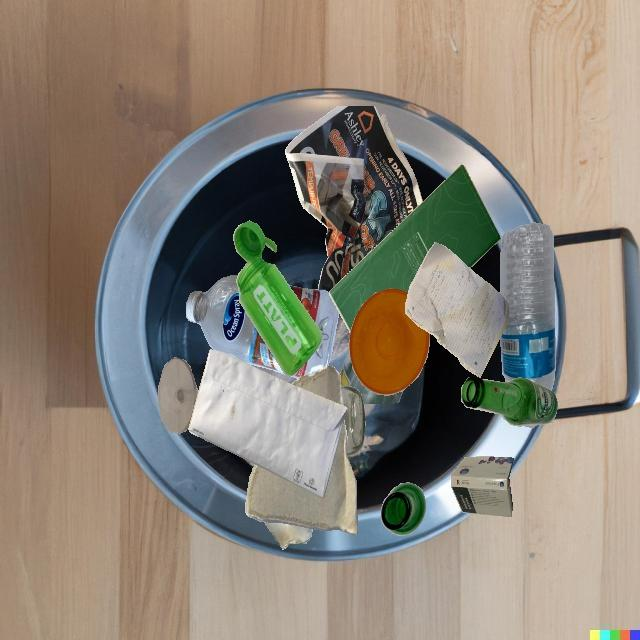cardboard: (245, 419, 358, 535), (451, 456, 514, 517)
glass: (461, 377, 558, 426), (340, 348, 403, 404), (158, 357, 199, 434), (381, 482, 426, 536), (340, 386, 365, 456), (264, 522, 313, 549)
paper: (329, 165, 501, 333), (286, 106, 423, 289), (188, 349, 348, 497), (405, 242, 509, 378)
plastic: (233, 220, 322, 376), (186, 275, 288, 376), (500, 222, 555, 391), (349, 288, 430, 395), (289, 285, 339, 379)
